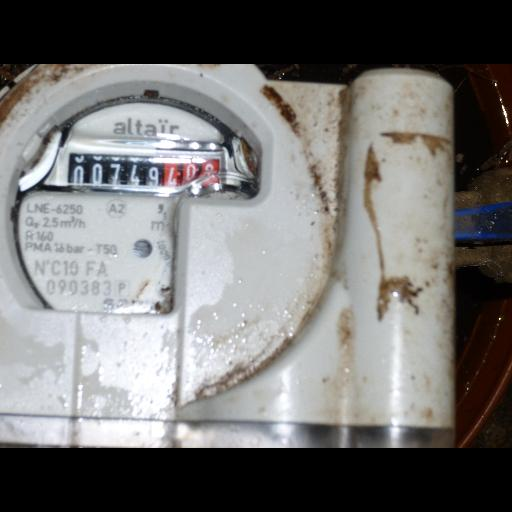0: (68, 153, 88, 183), (88, 154, 107, 184), (182, 157, 201, 187)
4: (125, 155, 145, 185), (164, 156, 183, 186)
7: (106, 155, 126, 185)
9: (145, 156, 164, 186), (199, 158, 219, 179)
border_water_meter_number: (44, 145, 227, 196)
